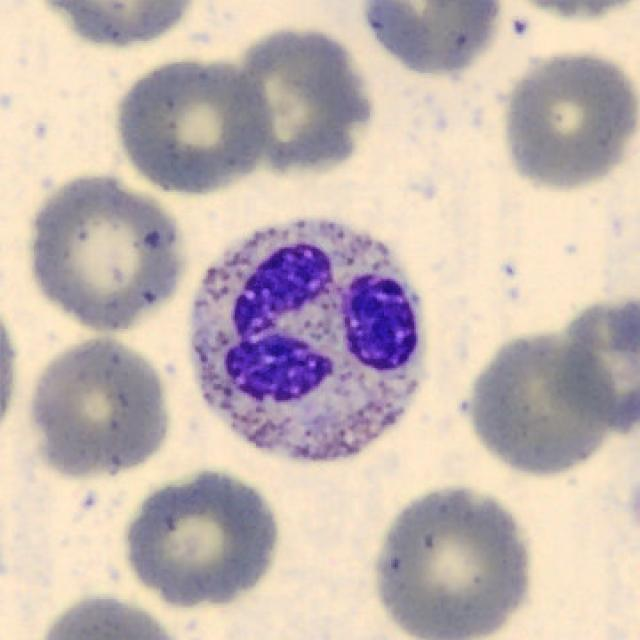Neutrofilo segmentado: (190, 222, 425, 464)
